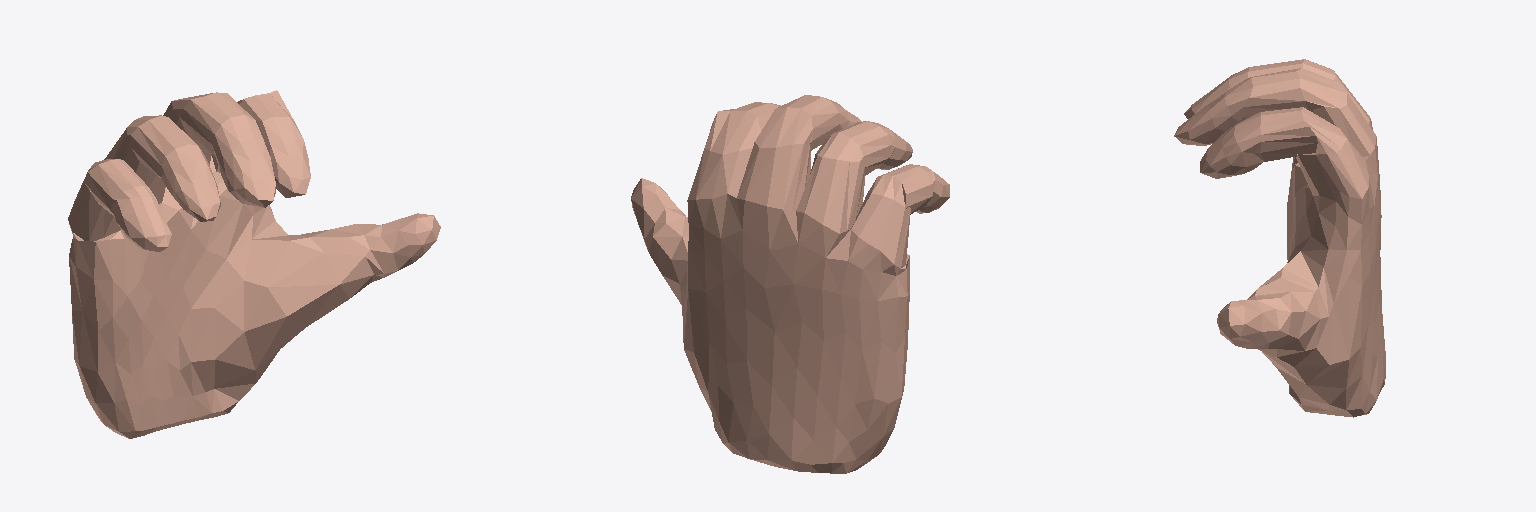
Rendered from MAO_C_COM_POLEGAR_PARA_O_LADO.obj.
The picture shows the model from 3 angles: view 1: azimuth 30°, elevation 25°; view 2: azimuth 150°, elevation 25°; view 3: azimuth 270°, elevation 25°; orthographic projection.
Parts seen in each view (by area): view 1: mao_dir:mao_dir; view 2: mao_dir:mao_dir; view 3: mao_dir:mao_dir.
Part boxes in pixels (x1,y1,x2,y2): mao_dir:mao_dir: (68,90,440,438); mao_dir:mao_dir: (631,95,949,473); mao_dir:mao_dir: (1174,59,1385,417).
Size of the model in its own units: 182 by 179 by 105.